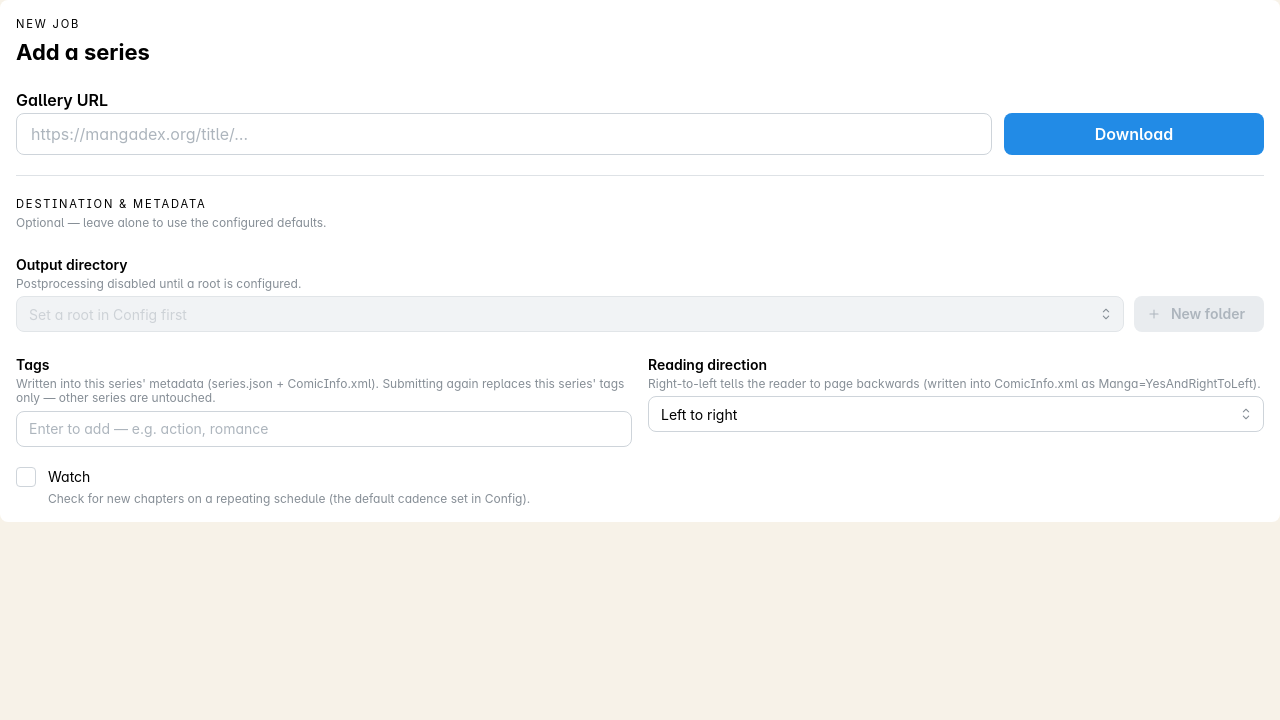
Test: SubmitForm › renders the server-side detail when the request fails
Type "https://example/nope" into the field labelled "Gallery URL" at [504, 134], box [16, 113, 992, 155]
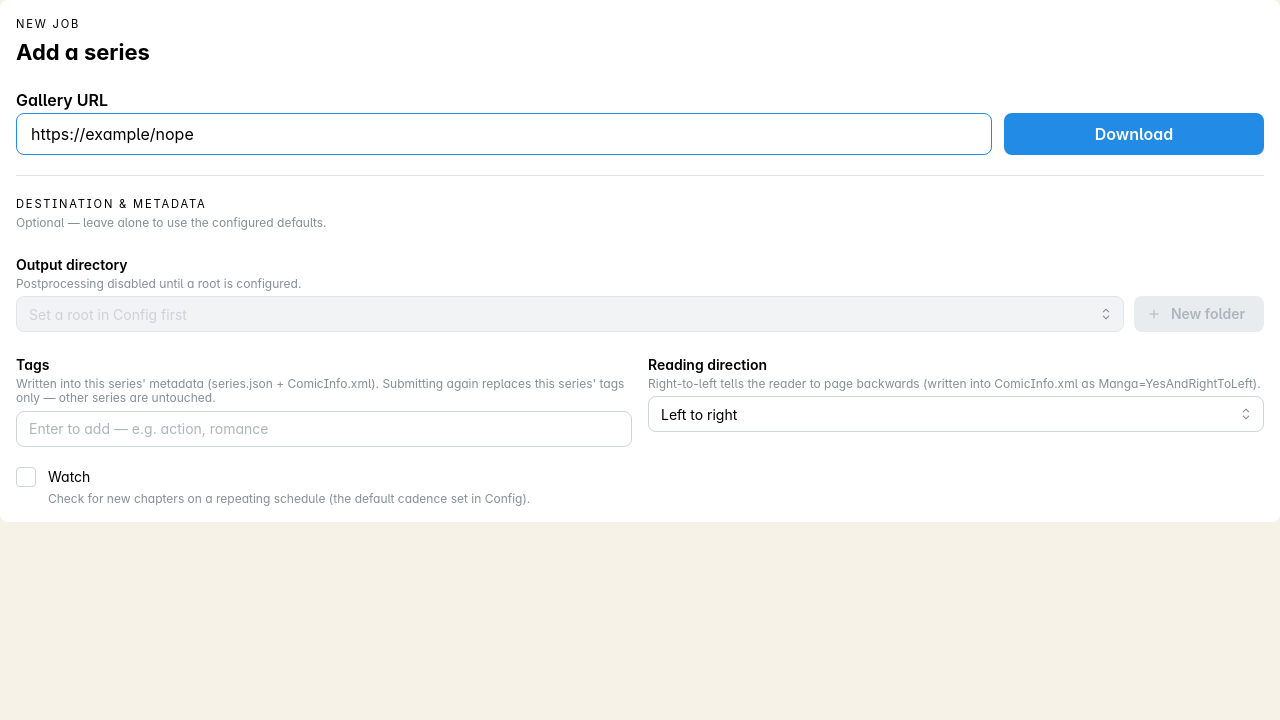
Click the button "Download" at [1134, 134], box [1004, 113, 1264, 155]
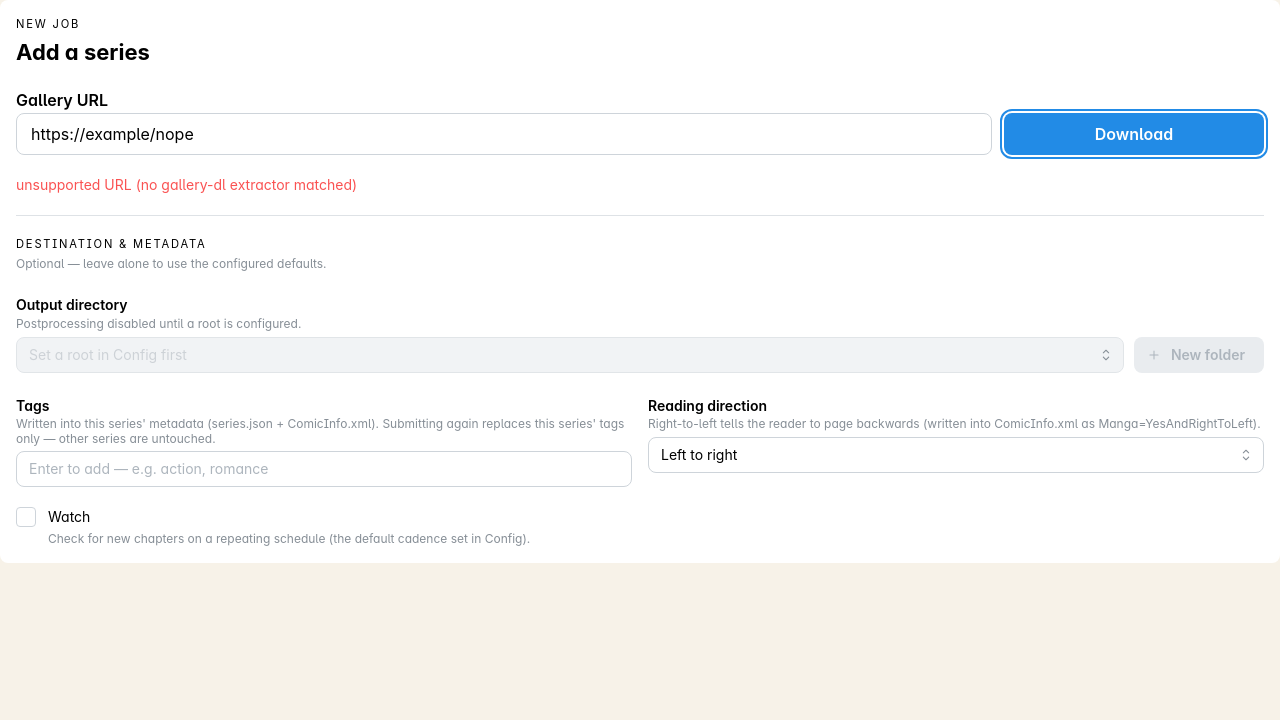
Expected: the text "unsupported URL (no gallery-dl extractor matched)" is shown, [16, 176, 357, 193]
